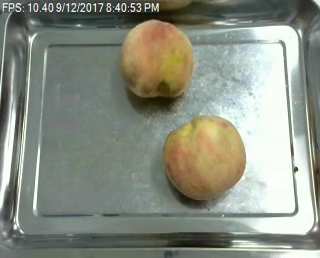Peach: (163, 113, 246, 200), (120, 20, 195, 99)
